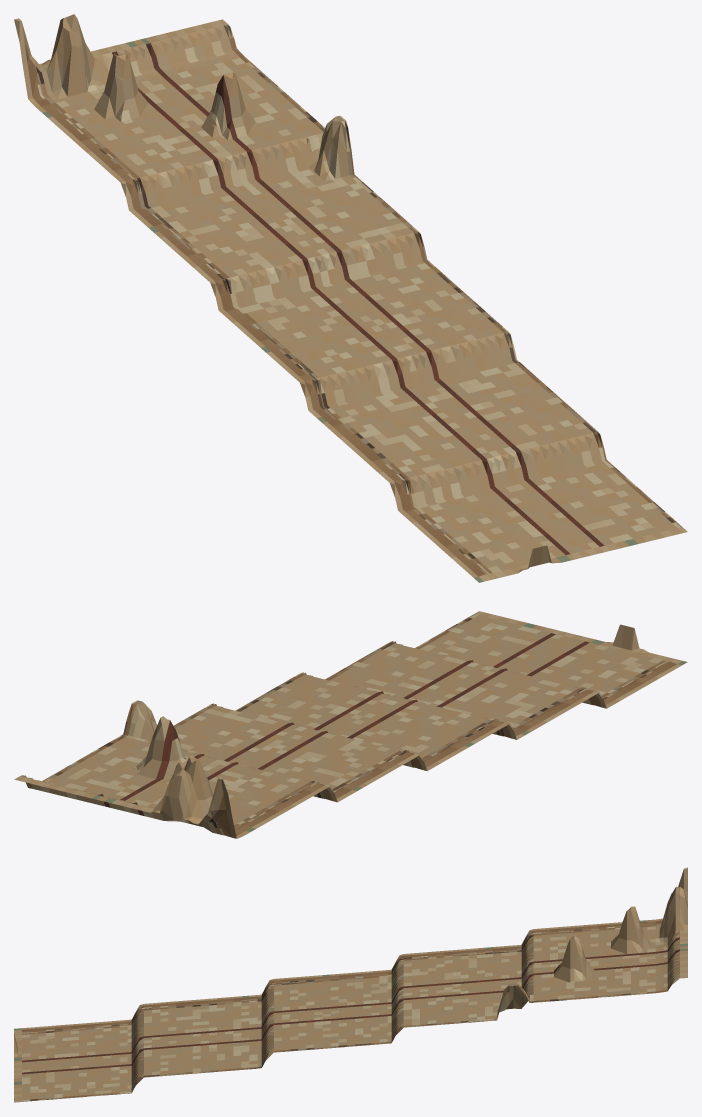
File: liner_lookout_stair.glb
3 views of the same model, one above another, from view 1: azimuth 30°, elevation 25°; view 2: azimuth 150°, elevation 25°; view 3: azimuth 270°, elevation 25° (orthographic). The views are drawn at different scales.
Visible parts, largest first — view 1: liner_lookout_stair_body; view 2: liner_lookout_stair_body; view 3: liner_lookout_stair_body.
Part boxes in pixels (left/top/right/bottom): liner_lookout_stair_body: left=14, top=14, right=687, bottom=582; liner_lookout_stair_body: left=14, top=611, right=687, bottom=838; liner_lookout_stair_body: left=14, top=867, right=687, bottom=1102.
Size of the model in its own units: 43 by 43.87 by 166.
